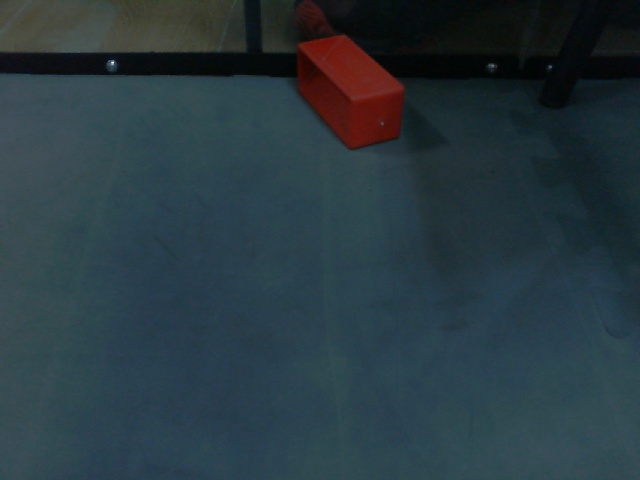RedSample: (293, 33, 406, 153)
